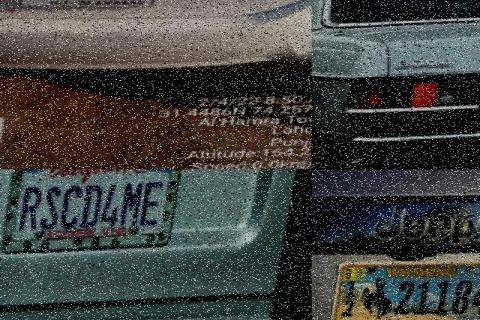LicensePlate: (0, 169, 190, 260), (333, 263, 478, 319), (6, 0, 178, 26)
